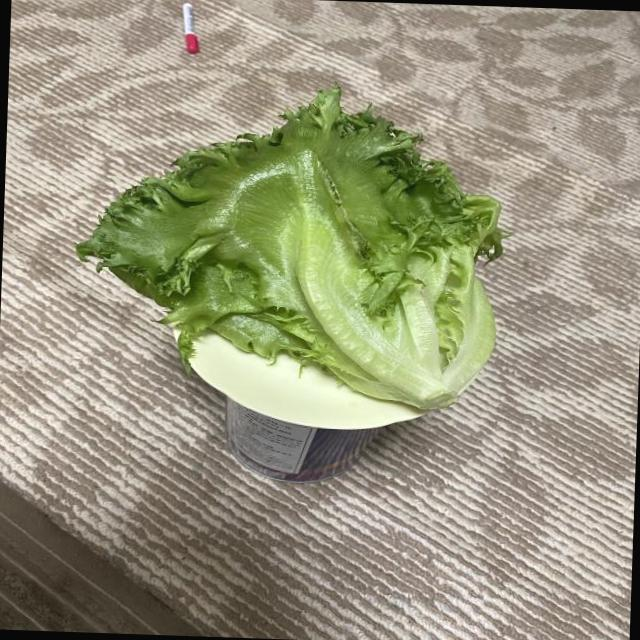Lettuce-Ready-to-Harvest: (76, 85, 503, 409)
